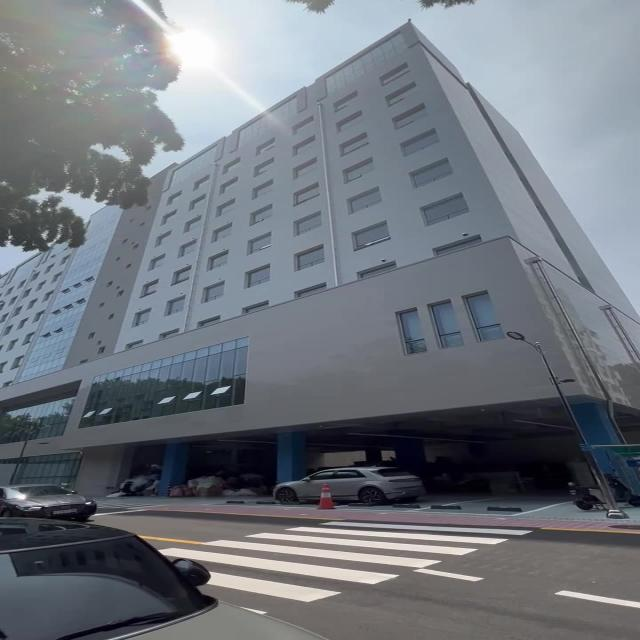building: (151, 83, 596, 431)
